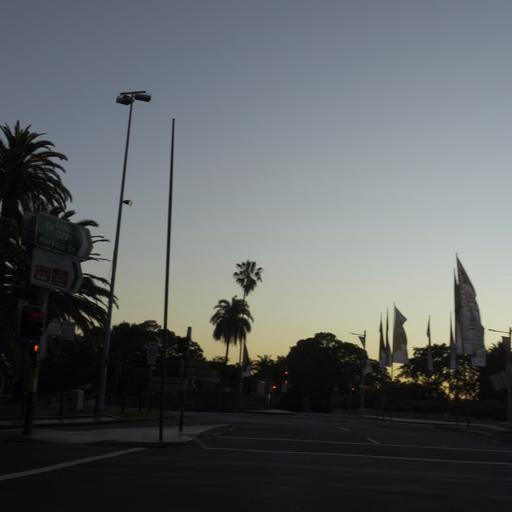Street light: (93, 88, 151, 416), (487, 326, 511, 422), (349, 329, 366, 409)
